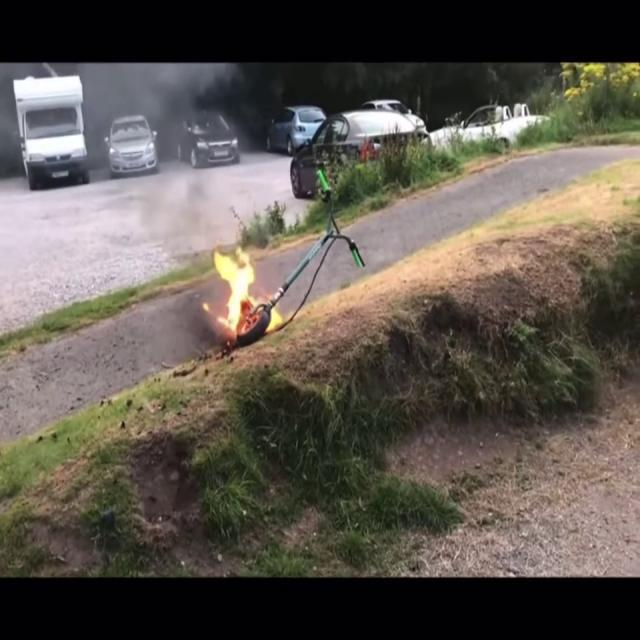Fire: (208, 243, 262, 337)
Smoke: (82, 69, 229, 222)
